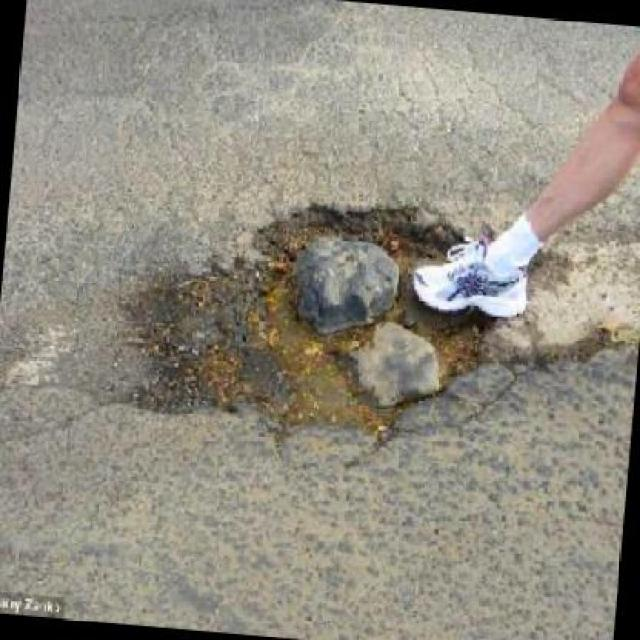pothole: (109, 178, 508, 450)
